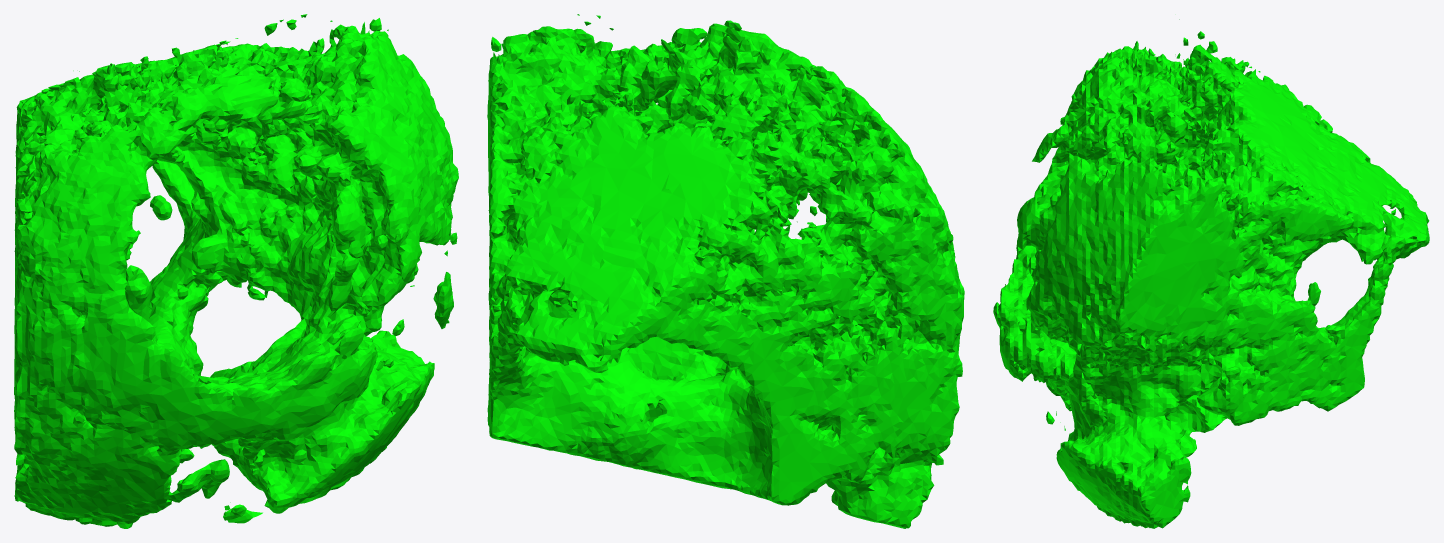
Rendered from B939XXXX-1_base_17.obj.
The picture shows the model from 3 angles, left to right: view 1: azimuth 30°, elevation 25°; view 2: azimuth 150°, elevation 25°; view 3: azimuth 270°, elevation 25°; orthographic projection. The views are drawn at different scales.
Visible parts, largest first — view 1: 17_base; view 2: 17_base; view 3: 17_base.
Boxes of the visible parts, <box> form: 17_base: <box>14,14,458,528</box>; 17_base: <box>487,14,964,528</box>; 17_base: <box>993,19,1429,528</box>.
Size of the model in its own units: 218 by 214 by 206.
